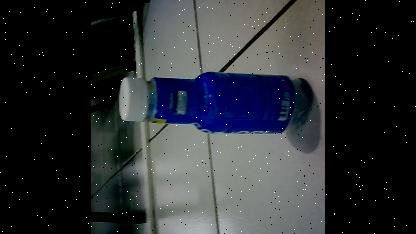Plastic Bottle: (115, 69, 308, 137)
